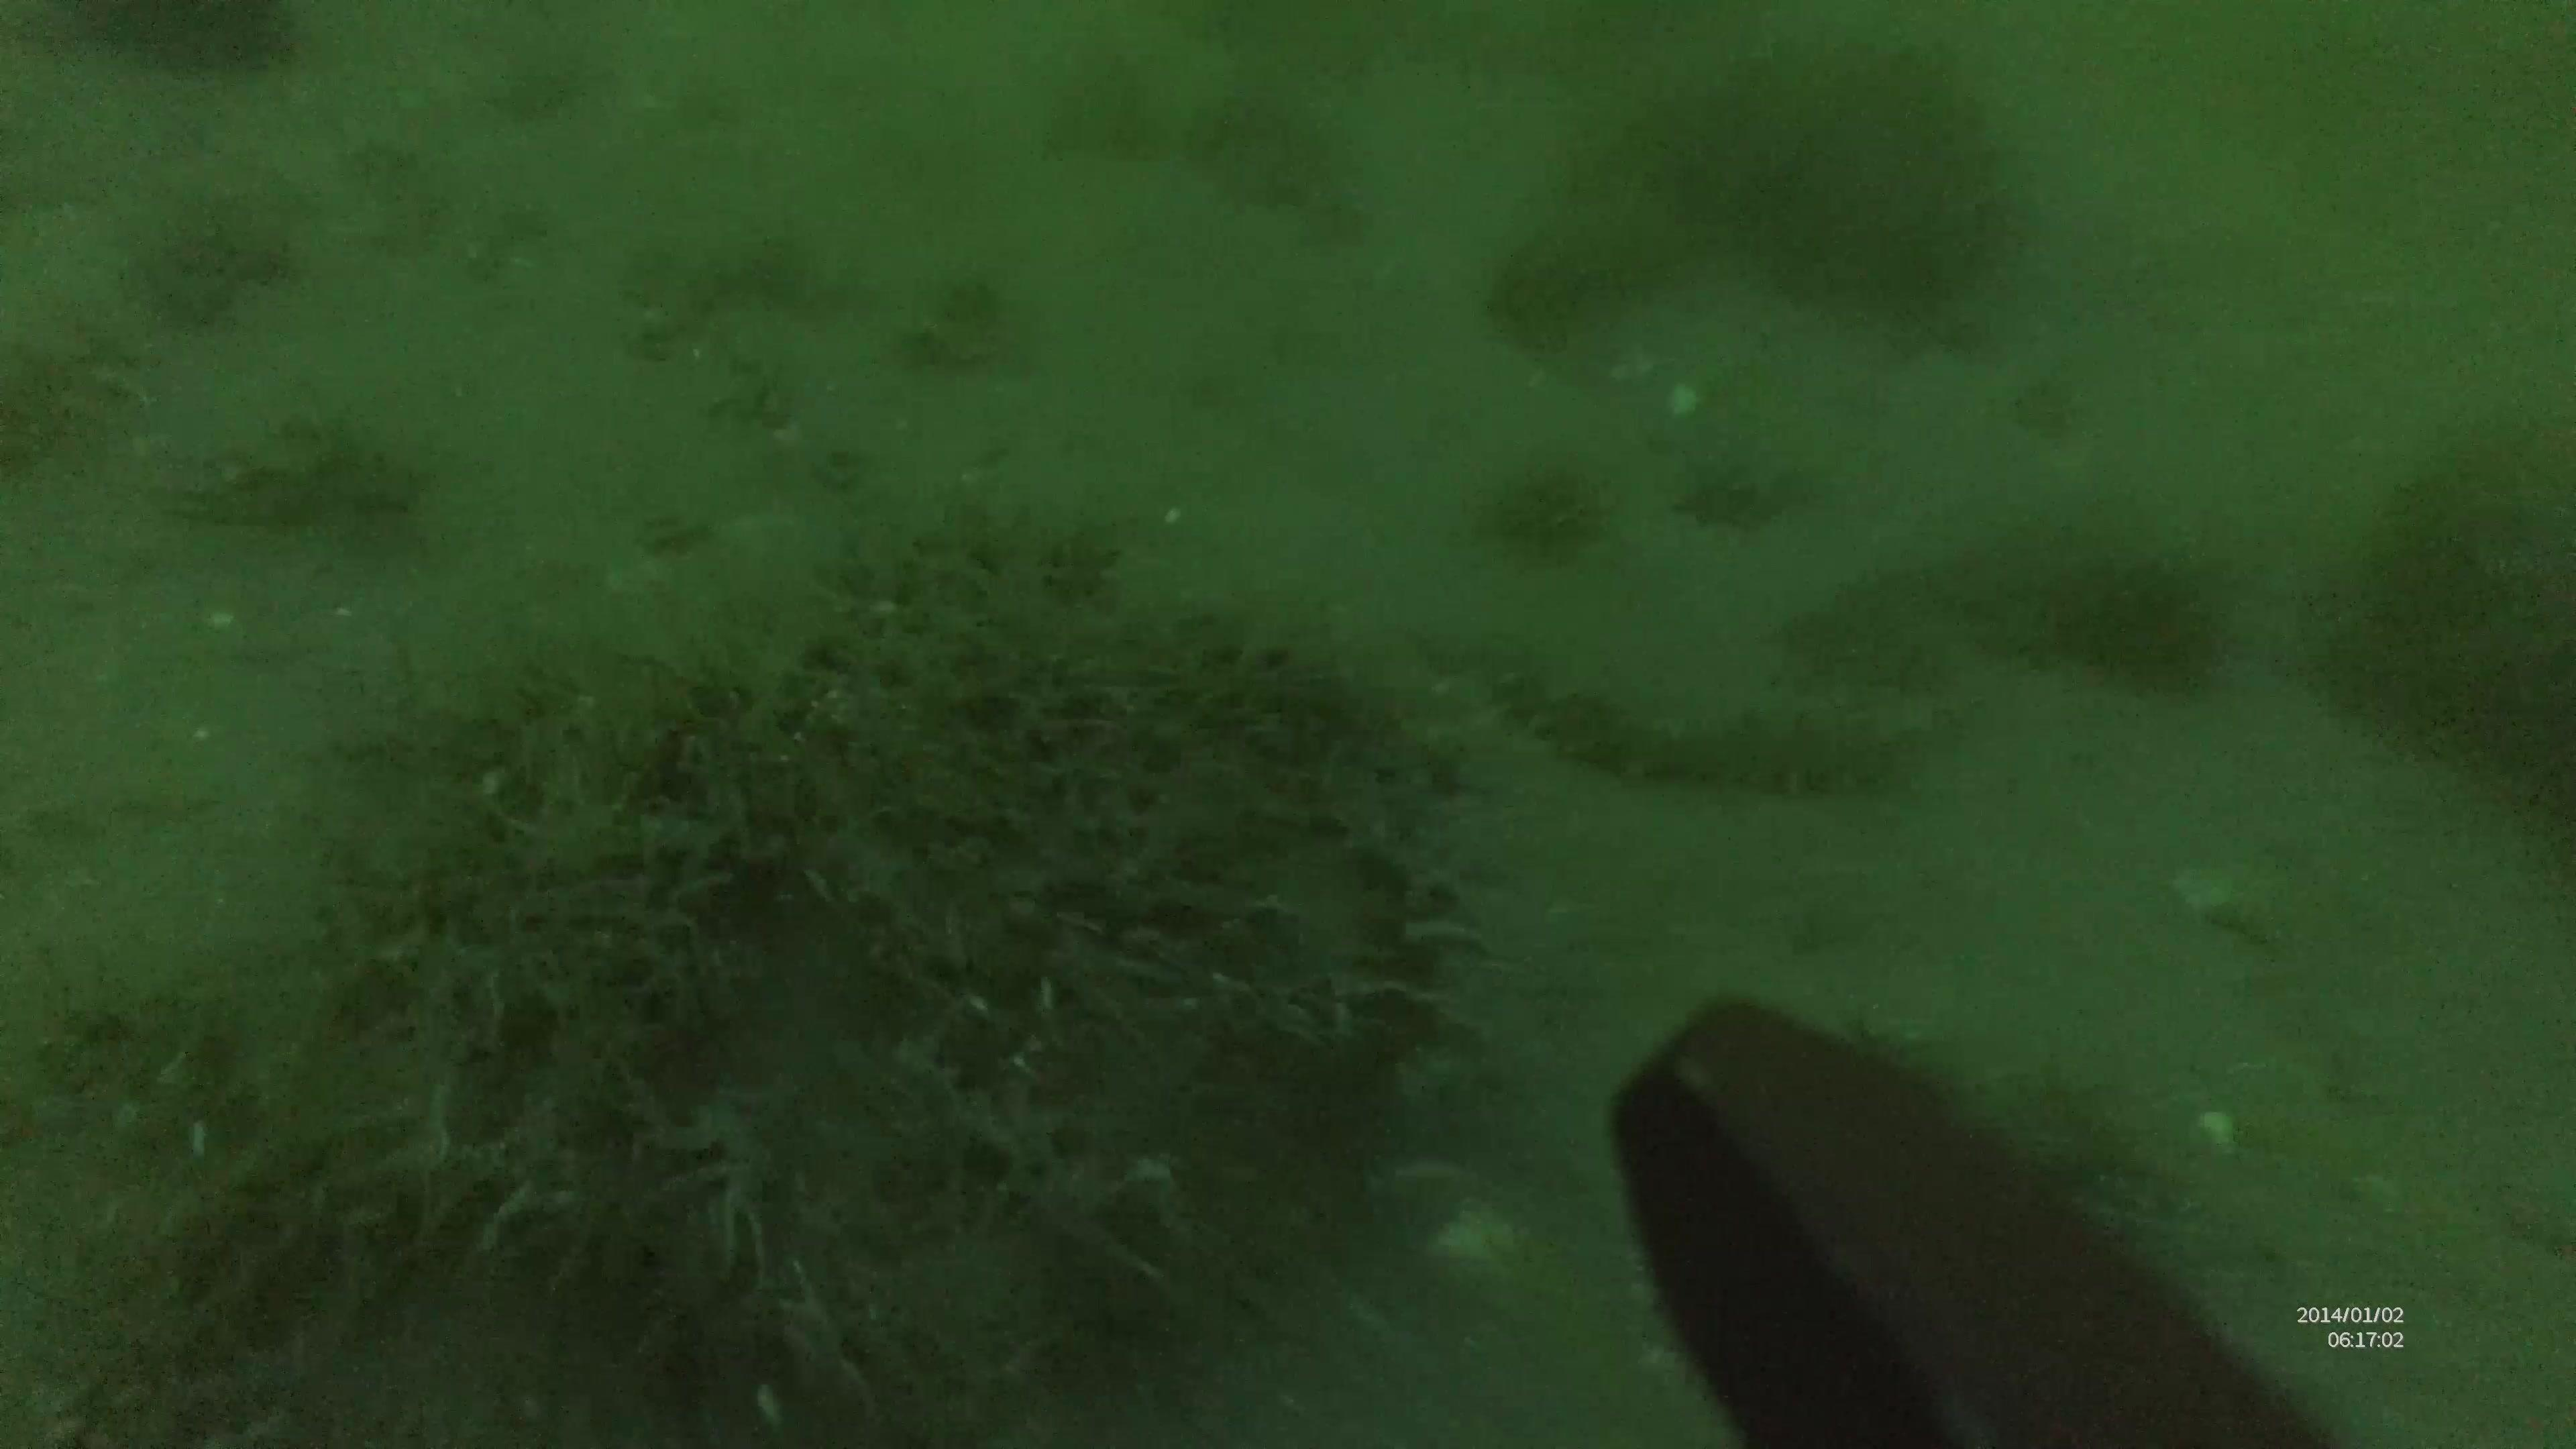holothurian: (1500, 660, 1928, 793)
